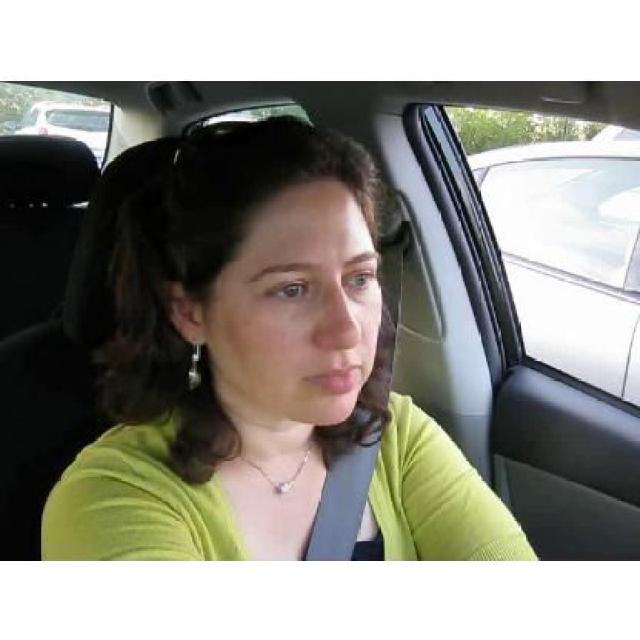attentif: (163, 119, 382, 426)
